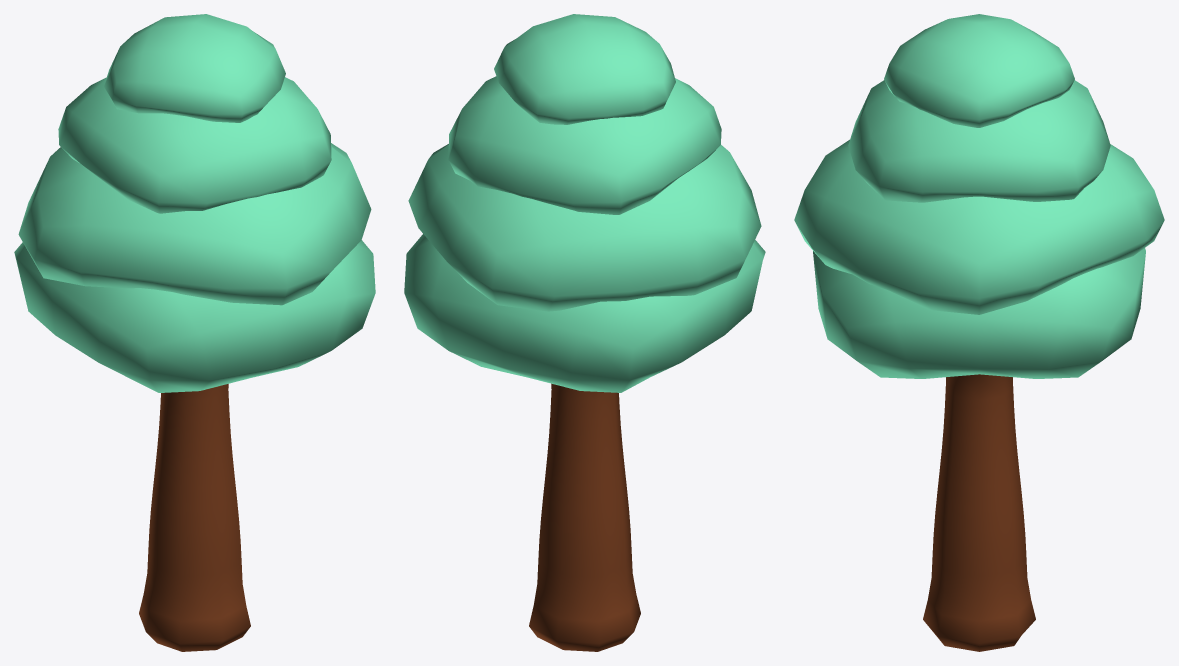
The picture shows the model from 3 angles, left to right: view 1: azimuth 30°, elevation 25°; view 2: azimuth 150°, elevation 25°; view 3: azimuth 270°, elevation 25°; orthographic projection.
Parts seen in each view (by area): view 1: Plane.001, Trunk.001; view 2: Plane.001, Trunk.001; view 3: Plane.001, Trunk.001.
Boxes of the visible parts, left/top/right/bottom form: Plane.001: left=14, top=14, right=375, bottom=392; Trunk.001: left=139, top=384, right=250, bottom=651; Plane.001: left=404, top=14, right=765, bottom=392; Trunk.001: left=529, top=383, right=640, bottom=651; Plane.001: left=794, top=14, right=1164, bottom=378; Trunk.001: left=923, top=374, right=1035, bottom=651.
Size of the model in its own units: 760 by 1392 by 760.
